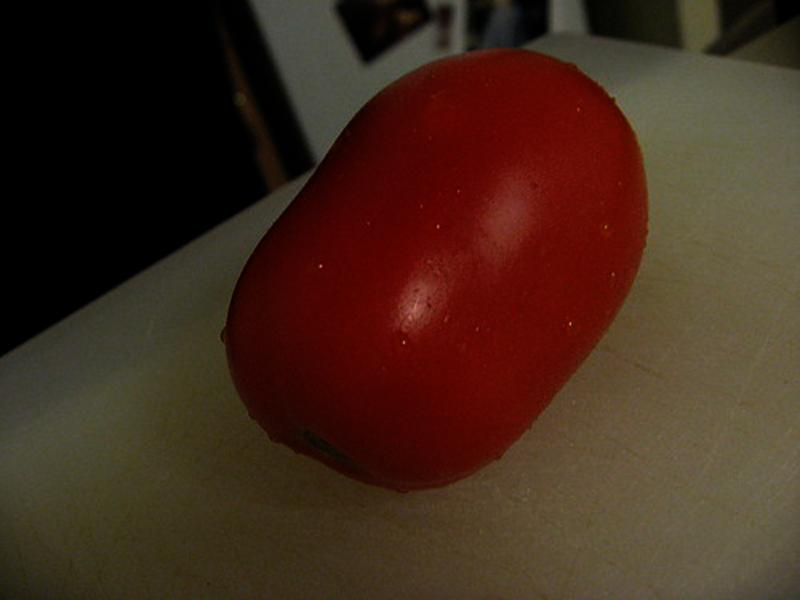Tomato: (224, 46, 646, 488)
